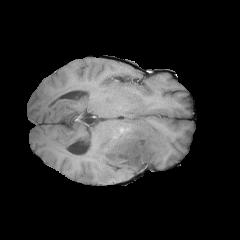glioma: (90, 120, 171, 184)
